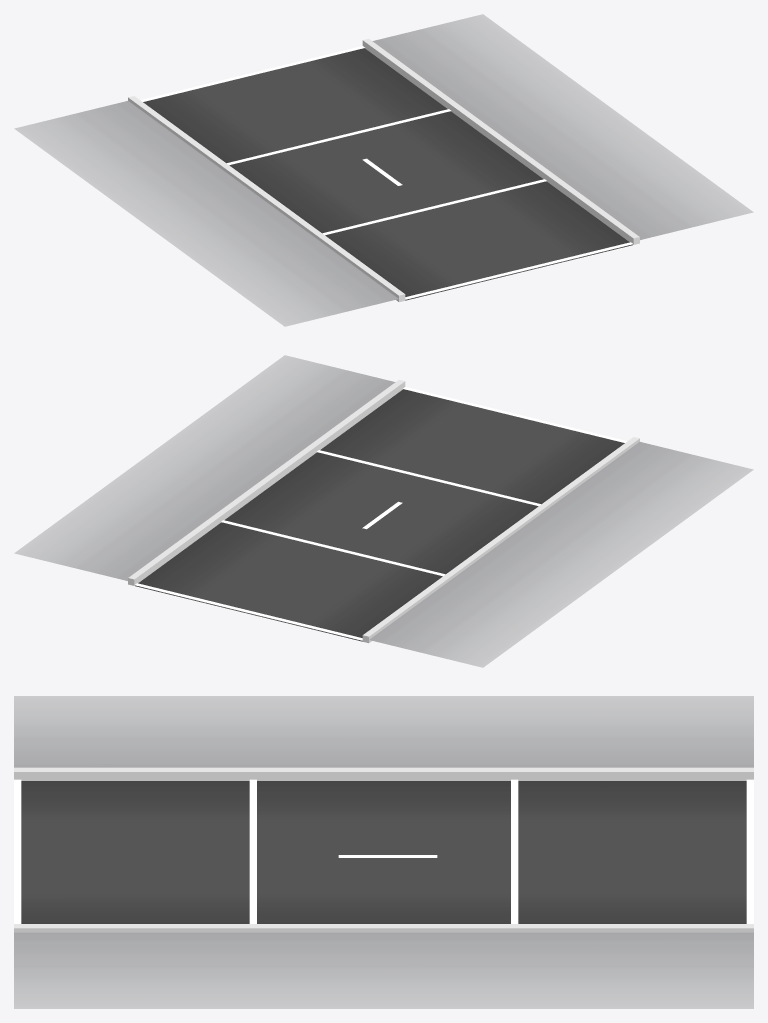
Rendered from city2-road-023.glb.
3 renders of one model, top to bottom at view 1: azimuth 30°, elevation 25°; view 2: azimuth 150°, elevation 25°; view 3: azimuth 270°, elevation 25°, orthographic. The views are drawn at different scales.
Parts seen in each view (by area): view 1: road_023; view 2: road_023; view 3: road_023.
Part boxes in pixels (x1,y1,x2,y2): road_023: (14,14,753,326); road_023: (14,355,753,667); road_023: (14,696,753,1008).
Bounding box in the file's own units: 15 × 0.2 × 15.
Materials: 1 (1 with a texture image).
